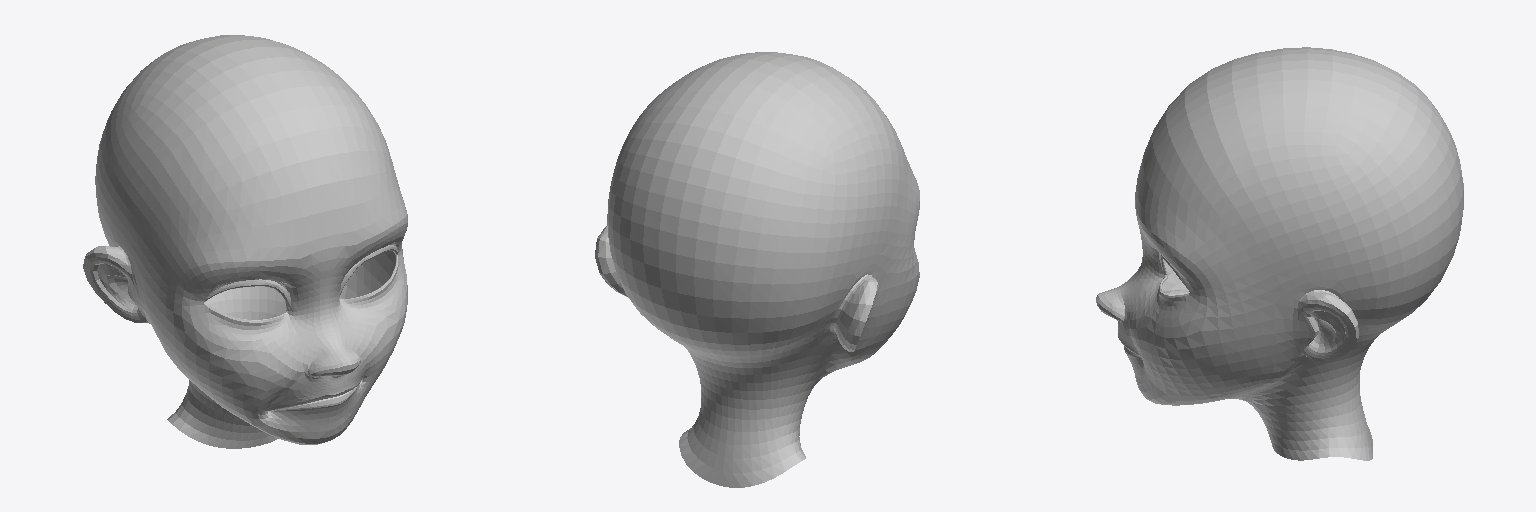
File: Mery_r_sad.obj
The picture shows the model from 3 angles: view 1: azimuth 30°, elevation 25°; view 2: azimuth 150°, elevation 25°; view 3: azimuth 270°, elevation 25°; orthographic projection.
Size of the model in its own units: 23.75 by 32.31 by 27.53.